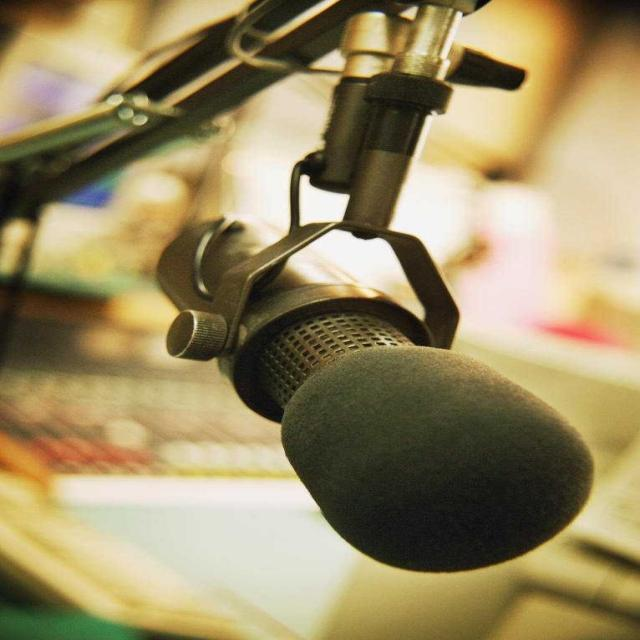microphone: (157, 217, 603, 578)
